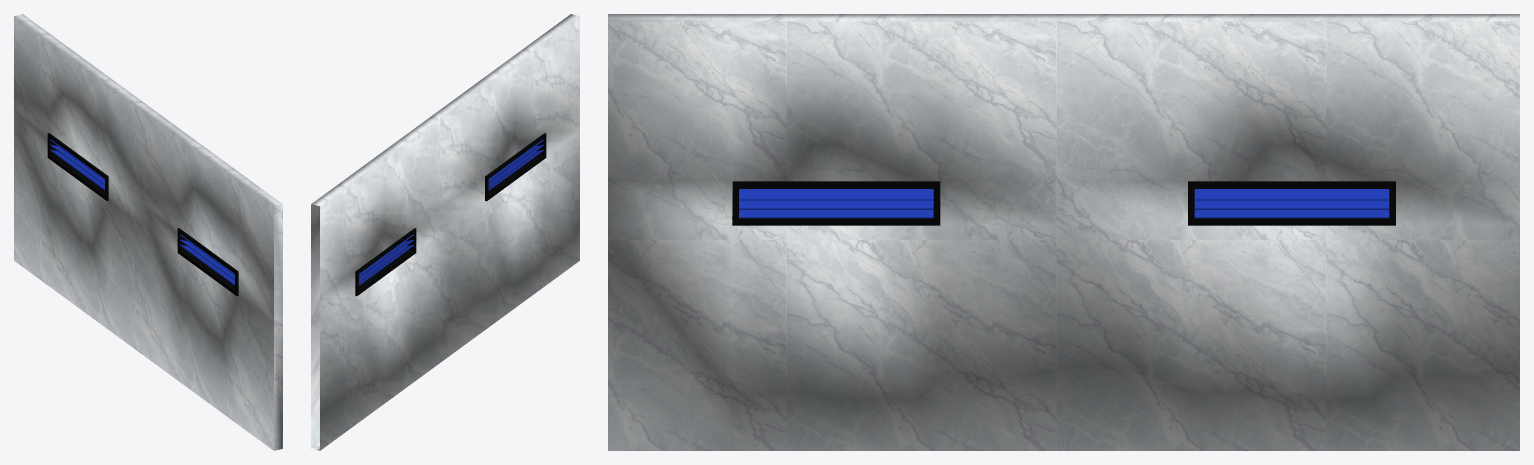
File: TembokTambahan_01.fbx
3 renders of one model, left to right at view 1: azimuth 30°, elevation 25°; view 2: azimuth 150°, elevation 25°; view 3: azimuth 270°, elevation 25°, orthographic. The views are drawn at different scales.
Visible parts, largest first — view 1: Tembok_Keramik_03.001, Ventilasi Dapur, Ventilasi_Glass; view 2: Tembok_Keramik_03.001, Ventilasi Dapur, Ventilasi_Glass; view 3: Tembok_Keramik_03.001, Ventilasi_Glass, Ventilasi Dapur.
Part boxes in pixels (x1,y1,x2,y2): Tembok_Keramik_03.001: (14,14,282,450); Ventilasi Dapur: (47,133,238,295); Ventilasi_Glass: (50,139,234,285); Tembok_Keramik_03.001: (311,14,579,450); Ventilasi Dapur: (355,133,546,296); Ventilasi_Glass: (359,139,543,285); Tembok_Keramik_03.001: (608,14,1519,450); Ventilasi_Glass: (739,189,1389,218); Ventilasi Dapur: (732,181,1395,225).
Bounding box in the file's own units: 18.49 × 350 × 674.
